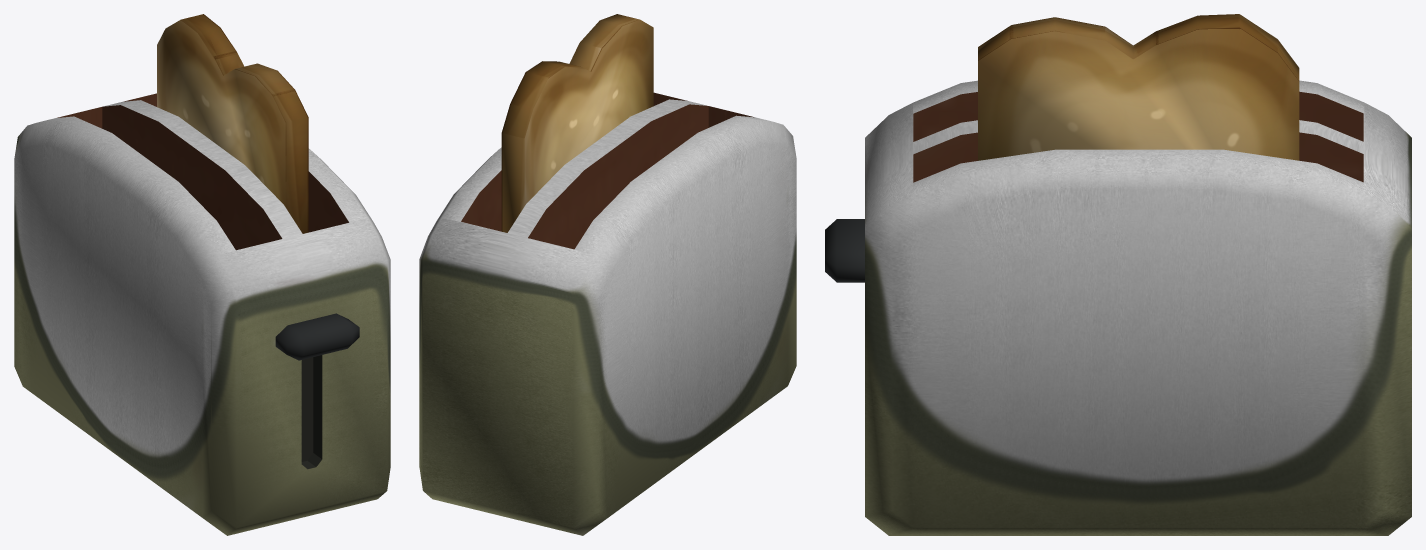
The model's file is toaster.fbx.
3 renders of one model, left to right at view 1: azimuth 30°, elevation 25°; view 2: azimuth 150°, elevation 25°; view 3: azimuth 270°, elevation 25°, orthographic. The views are drawn at different scales.
Parts seen in each view (by area): view 1: Toaster.001, toast, Cube; view 2: Toaster.001, toast; view 3: Toaster.001, toast, Cube.
Boxes of the visible parts, x1,y1,x2,y2 form: Toaster.001: (14, 93, 390, 535); toast: (157, 14, 308, 233); Cube: (275, 313, 359, 360); Toaster.001: (419, 92, 796, 535); toast: (501, 14, 653, 232); Toaster.001: (865, 80, 1411, 535); toast: (978, 14, 1299, 160); Cube: (825, 219, 864, 282).
Size of the model in its own units: 107 by 224 by 244.
Materials: 2 (2 with a texture image).
